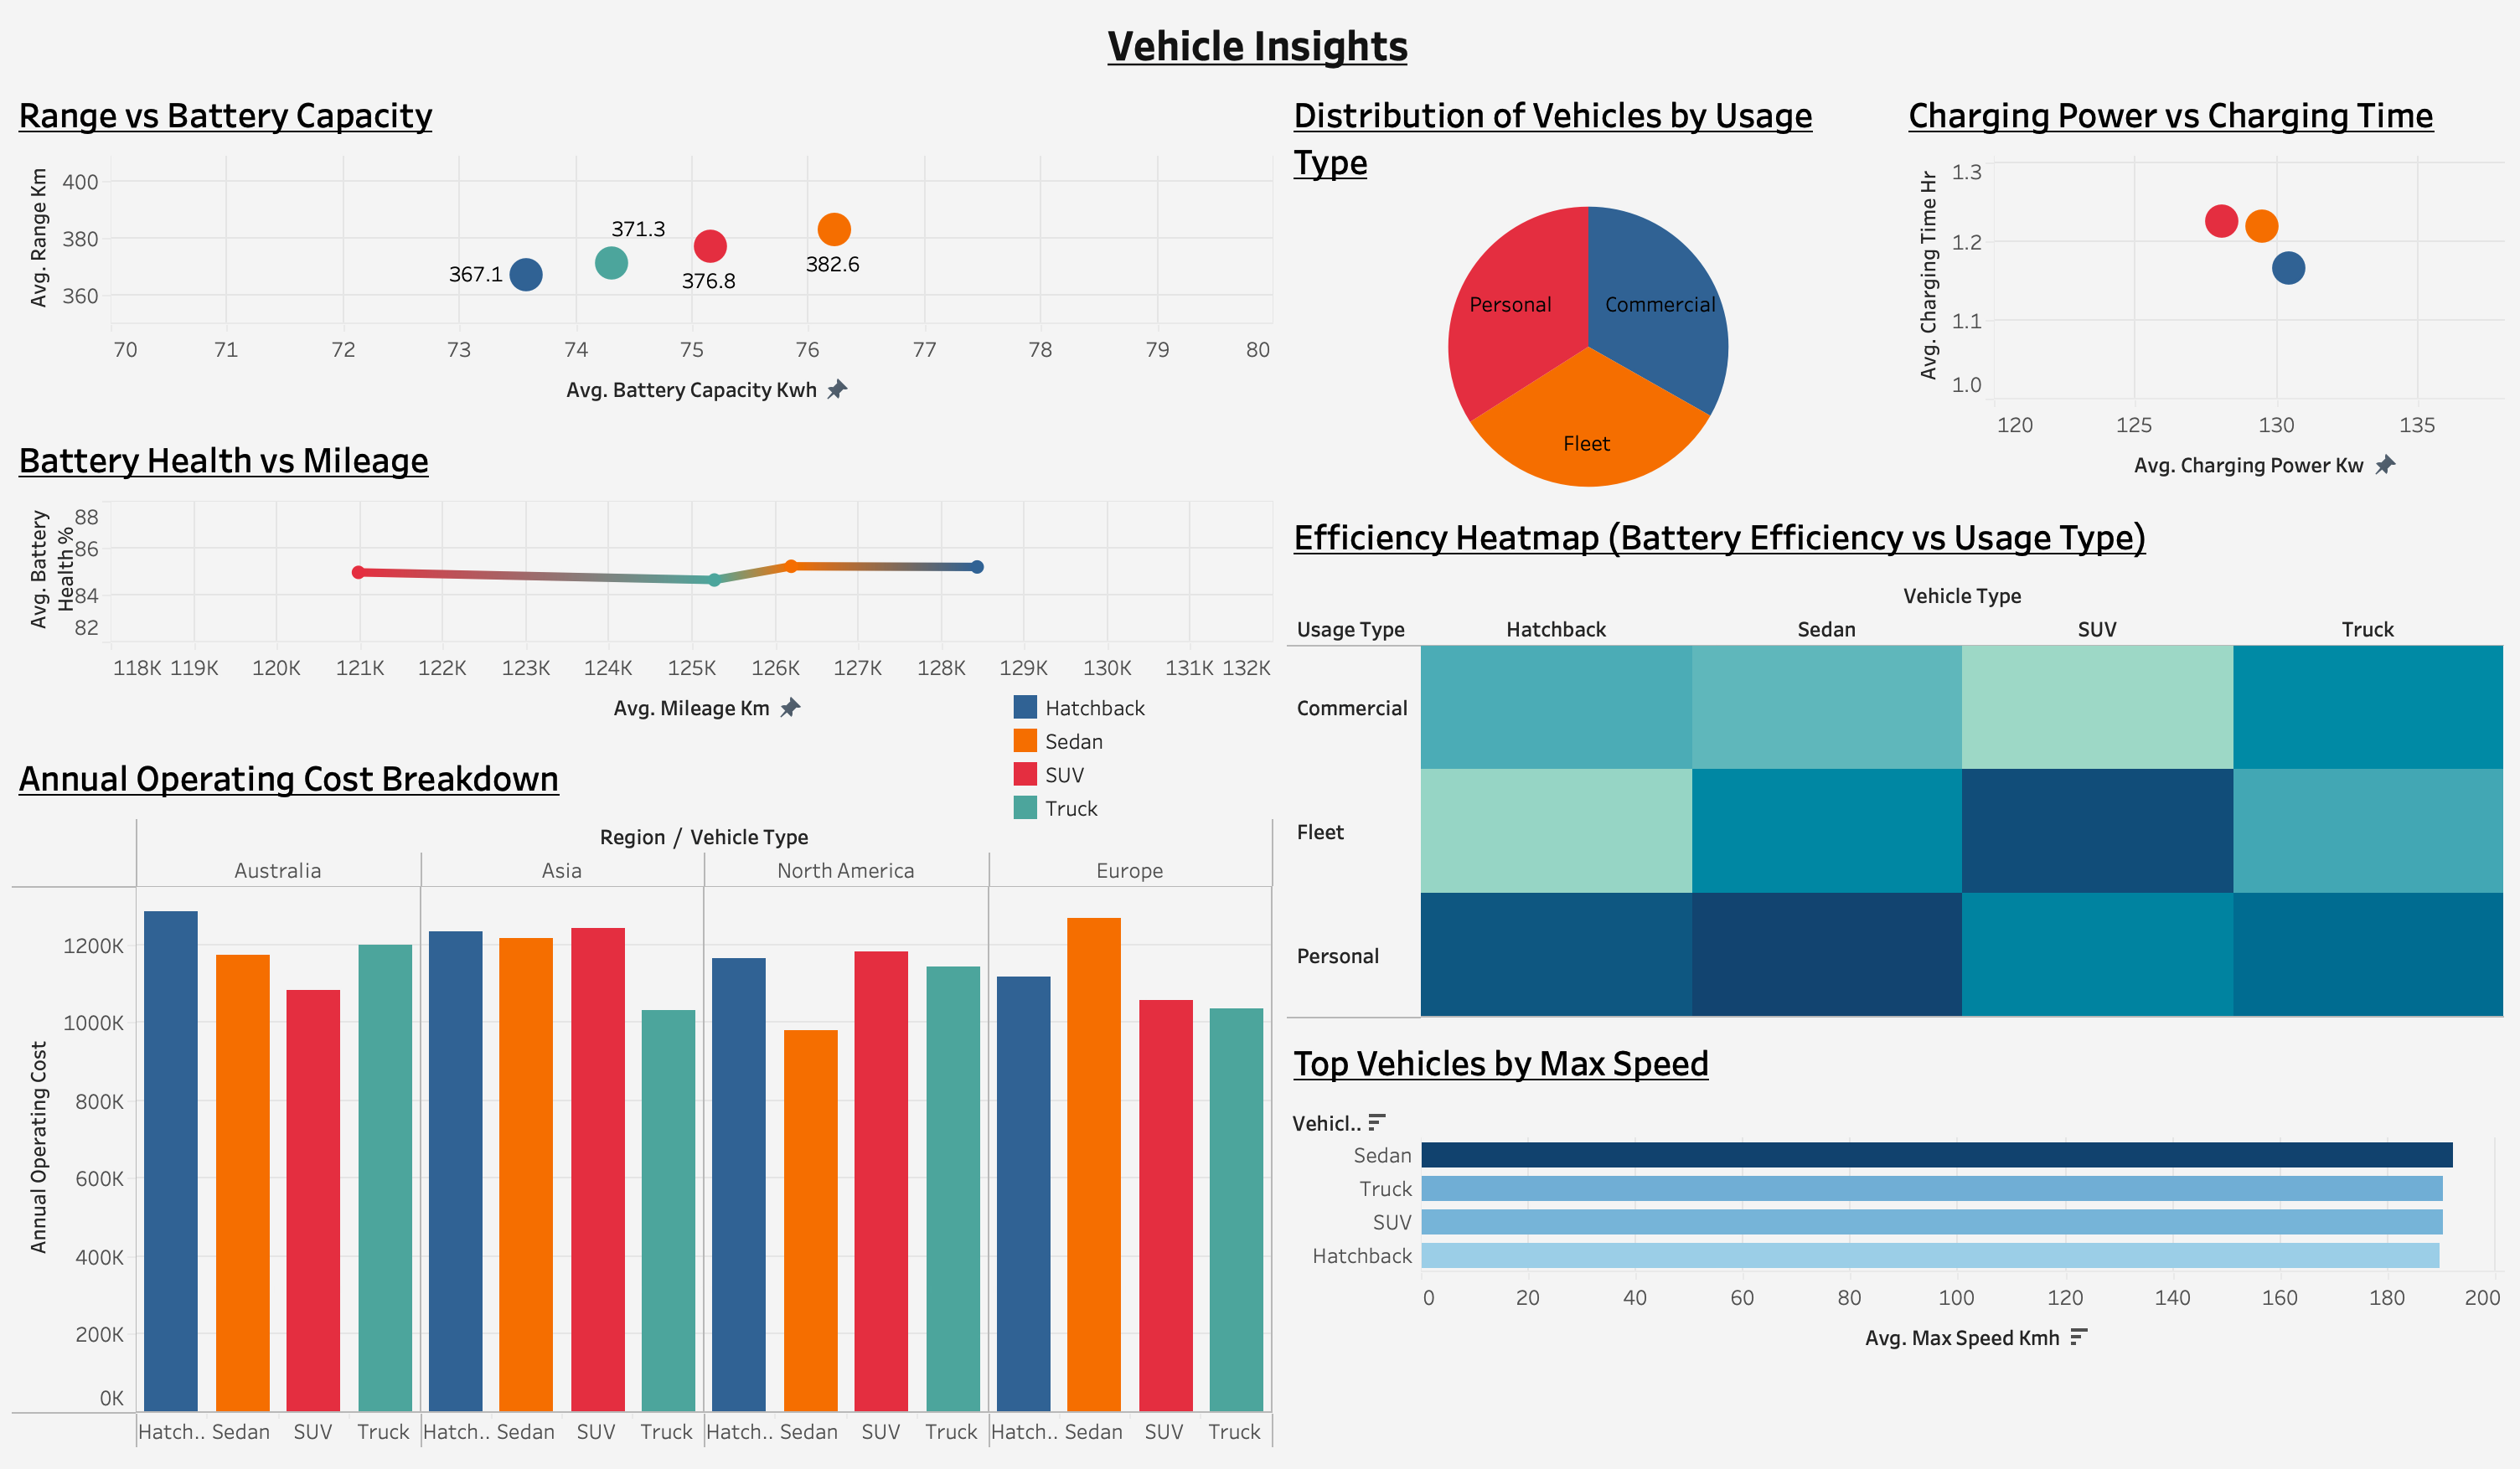

This screenshot's page, from the dashboard's own definition file:
{"tool":"tableau","page":{"name":"Vehicle Dashboard","canvas":[1000,1000],"units":"permille","ordinal":1},"visuals":[{"type":"text","box":[6.2,10.2,987.7,45.7]},{"type":"worksheet","title":"Sheet 1","mark":"Circle","rows":["range_km"],"cols":["battery_capacity_kwh"],"box":[6.2,55.8,502.2,233.5]},{"type":"worksheet","title":"Sheet 5","mark":"Pie","box":[508.4,55.8,242.7,285.5]},{"type":"worksheet","title":"Sheet 2","mark":"Circle","rows":["charging_time_hr"],"cols":["charging_power_kw"],"box":[751.1,55.8,242.7,285.5]},{"type":"worksheet","title":"Sheet 3","mark":"Line","rows":["battery_health_%"],"cols":["mileage_km"],"box":[6.2,289.3,502.2,215.3]},{"type":"worksheet","title":"Sheet 7","mark":"Square","rows":["usage_type"],"cols":["vehicle_type"],"box":[508.4,341.3,485.4,356.9]},{"type":"legend","title":"Sheet 1","param":"[federated.16688gb0950j58177nd3h1iqwq5s].[none:vehicle_type:nk]","box":[401.6,470.8,90.2,101.5]},{"type":"worksheet","title":"Sheet 4","mark":"Bar","rows":["Calculation_246220250235023366"],"cols":["region","vehicle_type"],"box":[6.2,504.7,502.2,485.2]},{"type":"worksheet","title":"Sheet 6","mark":"Automatic","rows":["vehicle_type"],"cols":["max_speed_kmh"],"box":[508.4,698.2,485.4,291.6]}]}

Visuals, with their boxes on the dashboard's canvas, which has no fixed pixel size, in thousandths of its width and height (x1, y1, x2, y2). These are canvas units, not pixel positions in the 2520x1469 screenshot, which may show the page scaled, cropped or inside an application window:
text: crop(6, 10, 994, 56)
"Sheet 1" worksheet (Circle marks): crop(6, 56, 508, 289)
"Sheet 5" worksheet (Pie marks): crop(508, 56, 751, 341)
"Sheet 2" worksheet (Circle marks): crop(751, 56, 994, 341)
"Sheet 3" worksheet (Line marks): crop(6, 289, 508, 505)
"Sheet 7" worksheet (Square marks): crop(508, 341, 994, 698)
"Sheet 1" legend: crop(402, 471, 492, 572)
"Sheet 4" worksheet (Bar marks): crop(6, 505, 508, 990)
"Sheet 6" worksheet: crop(508, 698, 994, 990)
